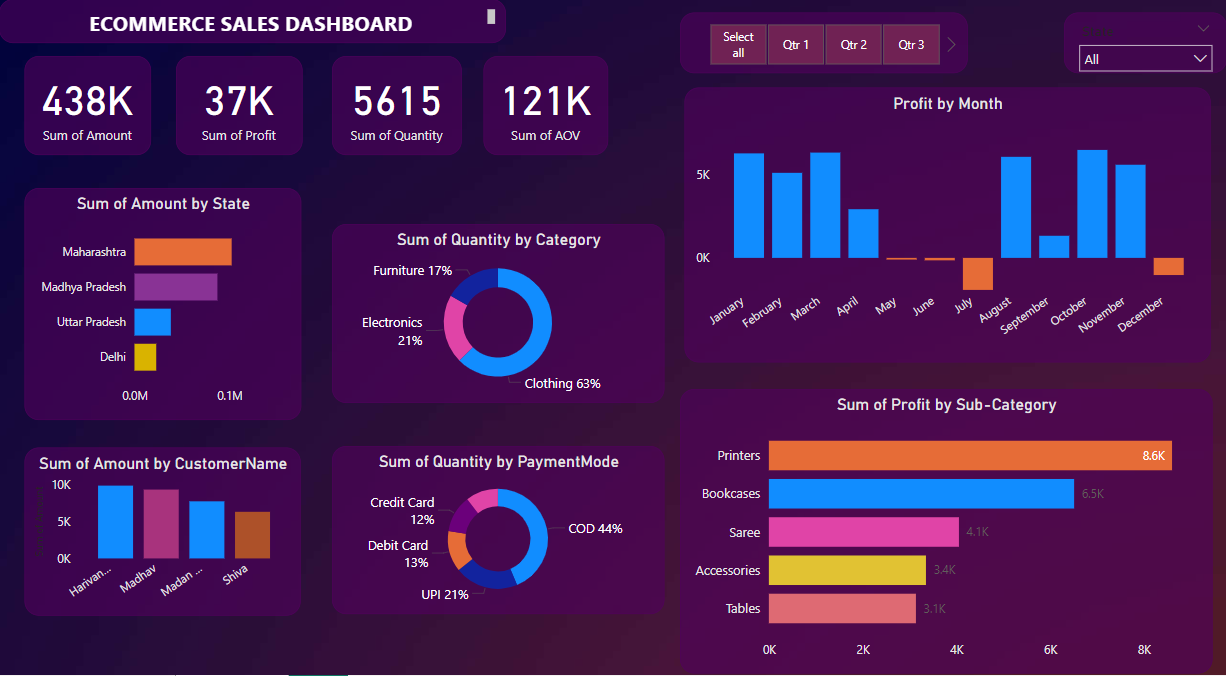

The dashboard page shown, as its layout file describes it:
{"tool":"powerbi","page":{"name":"Page 1","canvas":[1280,720],"ordinal":0},"visuals":[{"type":"textbox","box":[0,0,528.6,45.7],"z":0},{"type":"columnChart","title":"Profit by Month","fields":{"Category":["Orders.Order Date.Variation.Date Hierarchy.Month"],"Y":["Details.Profit"]},"box":[715,91.7,548.3,286.7],"z":1000},{"type":"barChart","fields":{"Category":["Details.Sub-Category"],"Y":["Details.Profit"]},"box":[710,406.7,555,296.7],"z":2000},{"type":"donutChart","fields":{"Category":["Details.Category"],"Y":["Details.Quantity"]},"box":[346.7,235,346.7,186.7],"z":3000},{"type":"donutChart","fields":{"Category":["Details.PaymentMode"],"Y":["Details.Quantity"]},"box":[346.7,466.7,346.7,175],"z":4000},{"type":"card","fields":{"Values":["Details.Amount"]},"box":[26.7,60,131.7,103.3],"z":5000},{"type":"card","fields":{"Values":["Details.Quantity"]},"box":[346.7,60,135,103.3],"z":6000},{"type":"card","fields":{"Values":["Details.Profit"]},"box":[185,60,131.7,103.3],"z":7000},{"type":"card","fields":{"Values":["Details.AOV"]},"box":[505,60,130,103.3],"z":8000},{"type":"barChart","fields":{"Category":["Orders.State"],"Y":["Details.Amount"]},"box":[26.7,196.7,288.3,241.7],"z":9000},{"type":"columnChart","fields":{"Category":["Orders.CustomerName"],"Y":["Details.Amount"]},"box":[27,467,288,175],"z":10000},{"type":"slicer","fields":{"Values":["Orders.Order Date.Variation.Date Hierarchy.Quarter"]},"box":[710,13.3,300,63.3],"z":11000},{"type":"slicer","fields":{"Values":["Orders.State"]},"box":[1110,13.3,170,63.3],"z":12000}]}

Visuals, with their boxes in screenshot pixels (x1, y1, x2, y2), scaled from the page's 1280x720 canvas onto the 1226x676 screenshot:
textbox: left=0, top=0, right=506, bottom=43
"Profit by Month" columnChart: left=685, top=86, right=1210, bottom=355
barChart - Details.Sub-Category x Details.Profit: left=680, top=382, right=1212, bottom=660
donutChart - Details.Category x Details.Quantity: left=332, top=221, right=664, bottom=396
donutChart - Details.PaymentMode x Details.Quantity: left=332, top=438, right=664, bottom=602
card - Details.Amount: left=26, top=56, right=152, bottom=153
card - Details.Quantity: left=332, top=56, right=461, bottom=153
card - Details.Profit: left=177, top=56, right=303, bottom=153
card - Details.AOV: left=484, top=56, right=608, bottom=153
barChart - Orders.State x Details.Amount: left=26, top=185, right=302, bottom=412
columnChart - Orders.CustomerName x Details.Amount: left=26, top=438, right=302, bottom=603
slicer - Orders.Order Date.Variation.Date Hierarchy.Quarter: left=680, top=12, right=967, bottom=72
slicer - Orders.State: left=1063, top=12, right=1225, bottom=72
